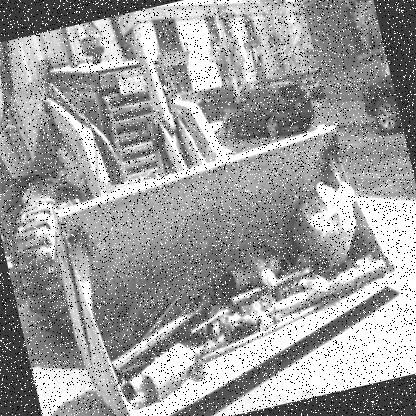Car: (216, 74, 318, 148), (360, 75, 404, 140)
